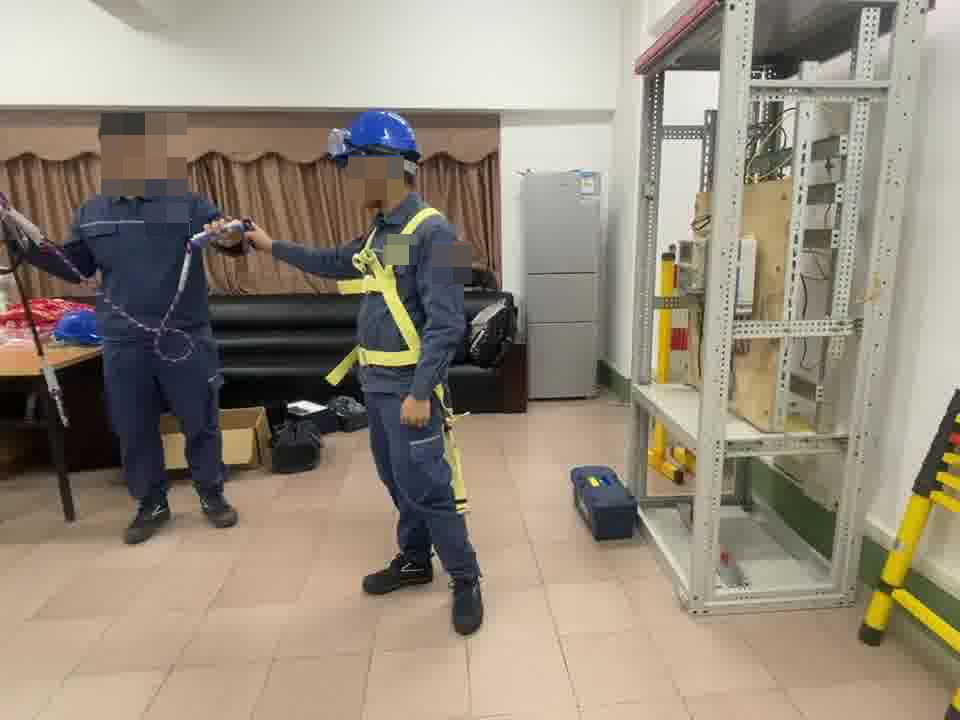downsuit: (362, 393, 480, 581), (106, 343, 232, 502)
halt: (334, 107, 423, 189)
hand: (398, 393, 433, 432), (199, 215, 240, 246), (245, 221, 272, 250)
inear: (360, 151, 397, 195)
person: (251, 104, 493, 613), (8, 111, 243, 534)
safebelt: (324, 208, 474, 520)
sleeve: (438, 244, 459, 281)
unhalt: (97, 112, 164, 190)
upsuit: (275, 180, 466, 382), (73, 185, 220, 334)
